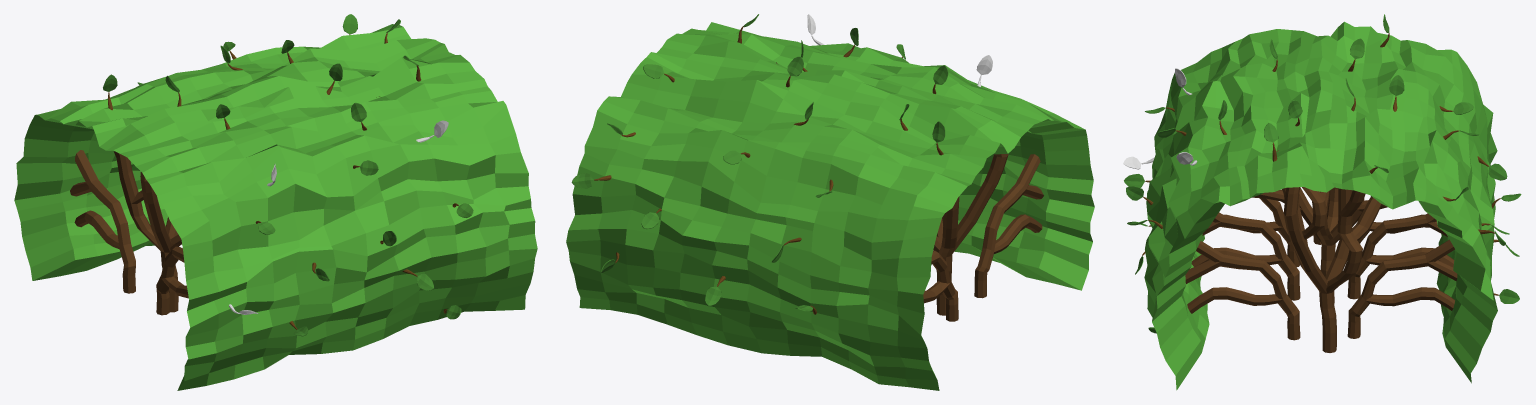
Rendered from AntonioCenarioFase1.fbx_Arbusto.fbx.
3 renders of one model, left to right at view 1: azimuth 30°, elevation 25°; view 2: azimuth 150°, elevation 25°; view 3: azimuth 270°, elevation 25°, orthographic. The views are drawn at different scales.
Visible parts, largest first — view 1: Arbusto; view 2: Arbusto; view 3: Arbusto.
Boxes of the visible parts, box(x1,y1,x2,y2) form: Arbusto: box(14, 14, 537, 390); Arbusto: box(566, 14, 1094, 390); Arbusto: box(1123, 14, 1521, 390).
Size of the model in its own units: 641 by 430 by 646.
